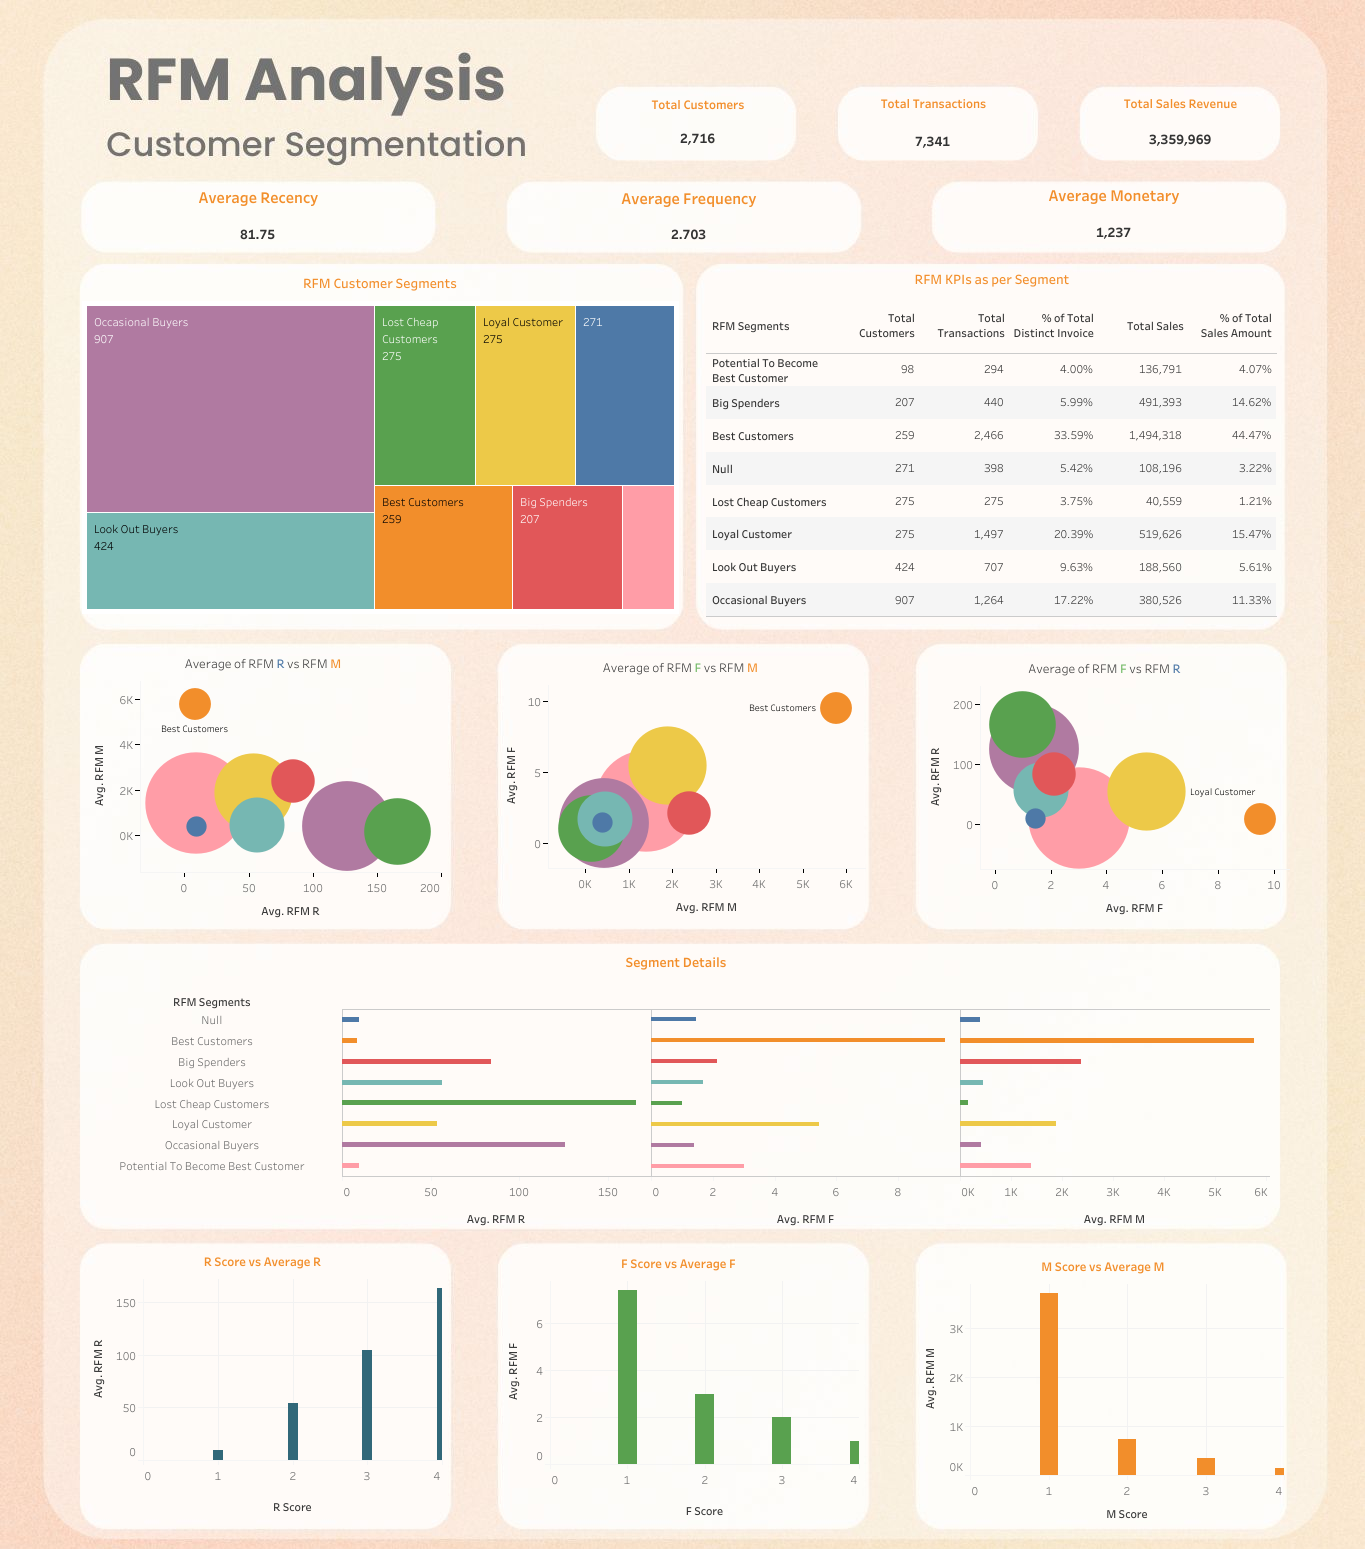

What the dashboard file says about the page in this screenshot:
{"tool":"tableau","page":{"name":"Dashboard 1","canvas":[1366,2000],"ordinal":0},"visuals":[{"type":"text","box":[8,8,499,83.3]},{"type":"worksheet","title":"Sales","mark":"Automatic","box":[507,8,350,83.3]},{"type":"worksheet","title":"Transactions","mark":"Automatic","box":[857,8,256,83.3]},{"type":"worksheet","title":"Customers","mark":"Automatic","box":[1113,8,245,83.3]},{"type":"text","box":[8,91.3,129,106.9]},{"type":"worksheet","title":"Average Recency","mark":"Automatic","box":[137,91.3,204,106.9]},{"type":"blank","box":[341,91.3,166,106.9]},{"type":"text","box":[507,91.3,104,106.9]},{"type":"worksheet","title":"Average Frequency","mark":"Automatic","box":[611,91.3,246,106.9]},{"type":"blank","box":[857,91.3,140,106.9]},{"type":"text","box":[997,91.3,138,106.9]},{"type":"worksheet","title":"Average Monetary","mark":"Automatic","box":[1135,91.3,223,106.9]},{"type":"legend","title":"RFM Customer Segments","param":"[federated.0lpcbtb0omnzdp1gid8k41ln5ni2].[none:Calculation_520447240317149192:nk","box":[8,198.2,160,463]},{"type":"worksheet","title":"RFM Customer Segments","mark":"Automatic","box":[168,198.2,605,463]},{"type":"worksheet","title":"RFM KPI Segment","mark":"Automatic","rows":["Calculation_520447240317149192"],"box":[773,198.2,585,463]},{"type":"worksheet","title":"Segment Details","mark":"Automatic","rows":["Calculation_520447240317149192"],"cols":["Calculation_520447240315461635","Calculation_520447240315244546","Calculation_520447240313901056"],"box":[8,661.2,1350,445]},{"type":"worksheet","title":"Avg RFM R vs RFM M","mark":"Circle","rows":["Calculation_520447240315244546"],"cols":["Calculation_520447240313901056"],"box":[8,1106.2,447,460.8]},{"type":"worksheet","title":"Avg RFM F vs RFM R","mark":"Circle","rows":["Calculation_520447240313901056"],"cols":["Calculation_520447240315461635"],"box":[455,1106.2,470,460.8]},{"type":"worksheet","title":"Avg RFM F vs RFM M","mark":"Circle","rows":["Calculation_520447240315461635"],"cols":["Calculation_520447240315244546"],"box":[925,1106.2,433,460.8]},{"type":"blank","box":[8,1567,1350,32]},{"type":"worksheet","title":"R Score vs Average R","mark":"Bar","rows":["Calculation_520447240313901056"],"cols":["Calculation_520447240315981828"],"box":[8,1599,446,361]},{"type":"worksheet","title":"F Score vs Average F","mark":"Bar","rows":["Calculation_520447240315461635"],"cols":["Calculation_520447240316682246"],"box":[454,1599,454,361]},{"type":"worksheet","title":"M Score vs Average M","mark":"Bar","rows":["Calculation_520447240315244546"],"cols":["Calculation_520447240316338181"],"box":[908,1599,450,361]}]}

Visuals, with their boxes on the page's 1366x2000 design canvas (x1, y1, x2, y2). These are canvas units, not pixel positions in the 1365x1549 screenshot, which may show the page scaled, cropped or inside an application window:
text: locate(8, 8, 507, 91)
"Sales" worksheet: locate(507, 8, 857, 91)
"Transactions" worksheet: locate(857, 8, 1113, 91)
"Customers" worksheet: locate(1113, 8, 1358, 91)
text: locate(8, 91, 137, 198)
"Average Recency" worksheet: locate(137, 91, 341, 198)
blank: locate(341, 91, 507, 198)
text: locate(507, 91, 611, 198)
"Average Frequency" worksheet: locate(611, 91, 857, 198)
blank: locate(857, 91, 997, 198)
text: locate(997, 91, 1135, 198)
"Average Monetary" worksheet: locate(1135, 91, 1358, 198)
"RFM Customer Segments" legend: locate(8, 198, 168, 661)
"RFM Customer Segments" worksheet: locate(168, 198, 773, 661)
"RFM KPI Segment" worksheet: locate(773, 198, 1358, 661)
"Segment Details" worksheet: locate(8, 661, 1358, 1106)
"Avg RFM R vs RFM M" worksheet (Circle marks): locate(8, 1106, 455, 1567)
"Avg RFM F vs RFM R" worksheet (Circle marks): locate(455, 1106, 925, 1567)
"Avg RFM F vs RFM M" worksheet (Circle marks): locate(925, 1106, 1358, 1567)
blank: locate(8, 1567, 1358, 1599)
"R Score vs Average R" worksheet (Bar marks): locate(8, 1599, 454, 1960)
"F Score vs Average F" worksheet (Bar marks): locate(454, 1599, 908, 1960)
"M Score vs Average M" worksheet (Bar marks): locate(908, 1599, 1358, 1960)
